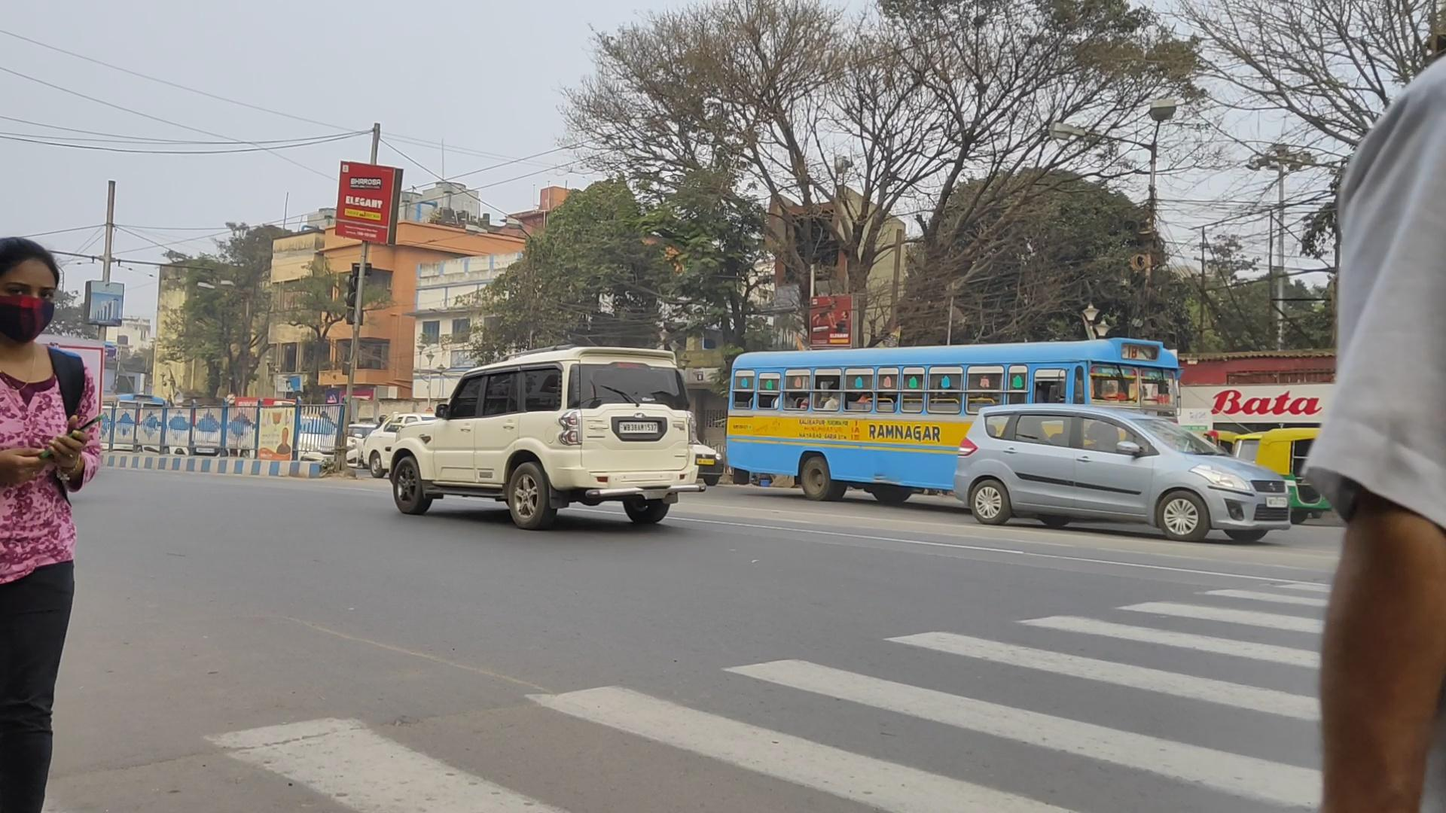Bus: (725, 338, 1184, 501)
car: (391, 344, 700, 531), (952, 402, 1292, 544)
